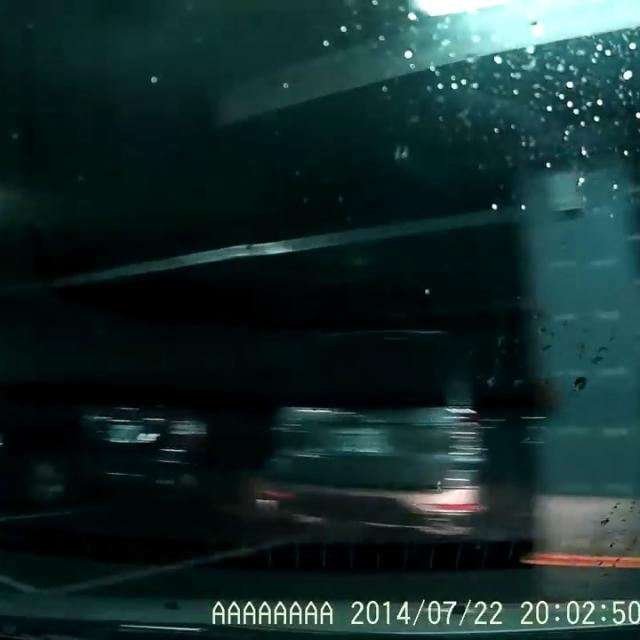Car: (233, 320, 487, 552), (2, 360, 222, 518)
